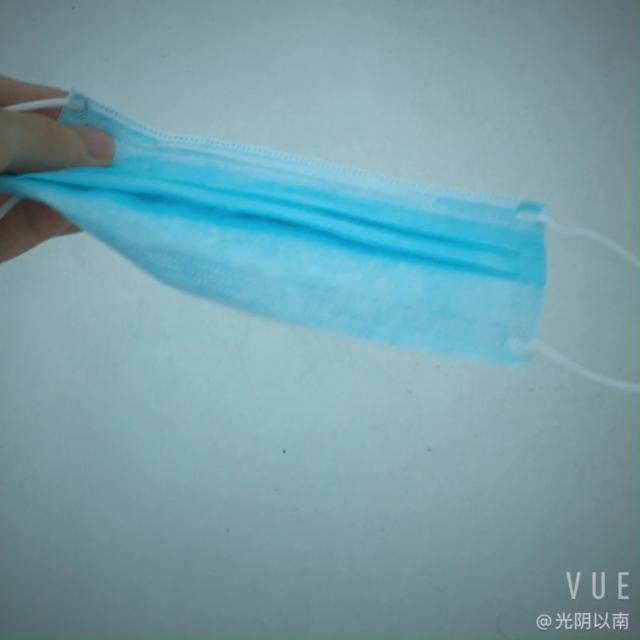non-organic waste: (36, 110, 538, 364)
